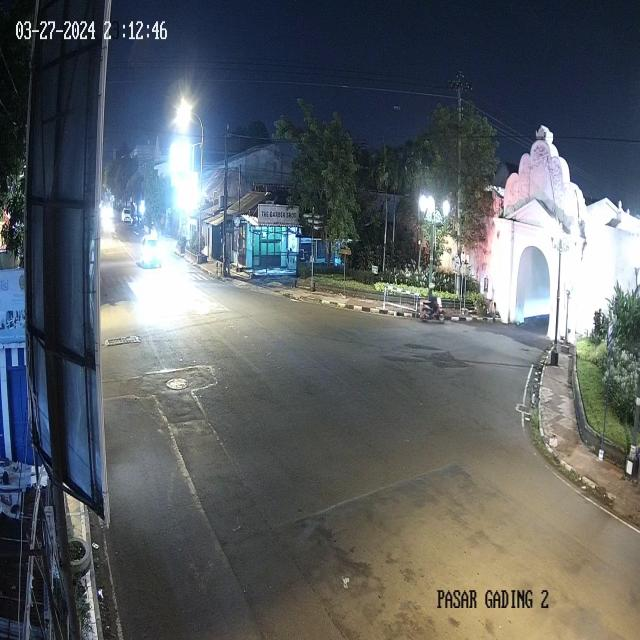car: (140, 233, 164, 270), (121, 206, 132, 222)
